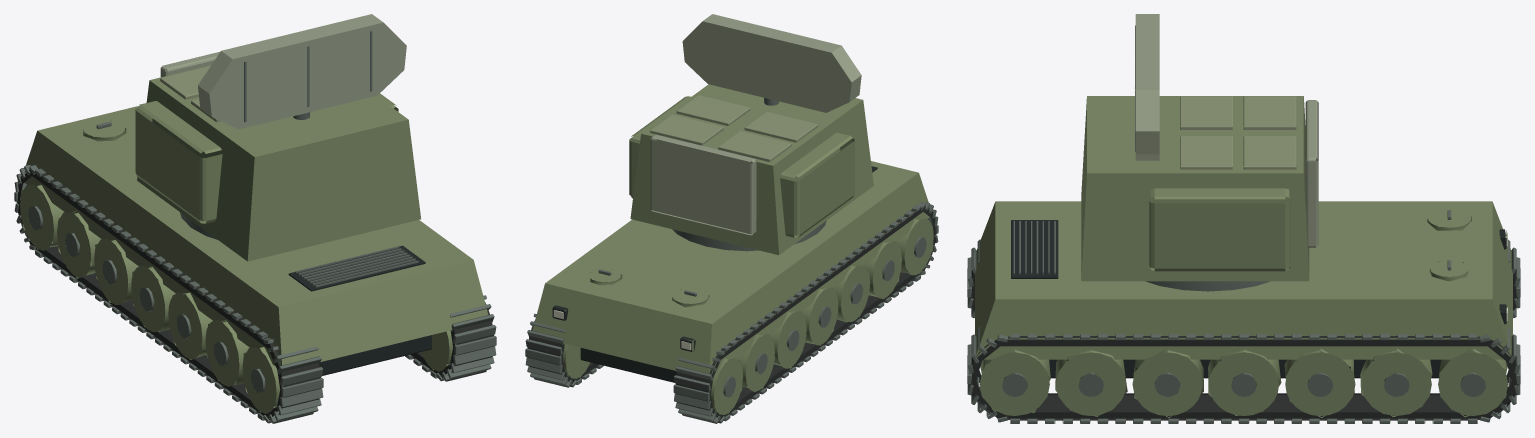
3 views of the same model, side by side, from view 1: azimuth 30°, elevation 25°; view 2: azimuth 150°, elevation 25°; view 3: azimuth 270°, elevation 25° (orthographic). The views are drawn at different scales.
Visible parts, largest first — view 1: static.olive painted metal, static.exterior radome, static.dark exterior metal, static.rubber and track pads, static.recess shadow, static.edge and panel paint; view 2: static.olive painted metal, static.exterior radome, static.dark exterior metal, static.edge and panel paint, static.rubber and track pads, static.recess shadow; view 3: static.olive painted metal, static.dark exterior metal, static.rubber and track pads, static.edge and panel paint, static.exterior radome, static.recess shadow.
Part boxes in pixels (box(x1,y1,x2,y2)): static.olive painted metal: box(20, 65, 488, 413); static.exterior radome: box(160, 14, 406, 129); static.dark exterior metal: box(14, 30, 496, 423); static.rubber and track pads: box(17, 169, 493, 419); static.recess shadow: box(288, 245, 431, 375); static.edge and panel paint: box(160, 65, 220, 122); static.olive painted metal: box(532, 84, 933, 414); static.exterior radome: box(650, 14, 861, 235); static.dark exterior metal: box(525, 98, 938, 423); static.edge and panel paint: box(650, 95, 818, 161); static.rubber and track pads: box(527, 206, 936, 420); static.recess shadow: box(552, 166, 877, 382); static.olive painted metal: box(975, 96, 1512, 417); static.dark exterior metal: box(967, 25, 1520, 423); static.rubber and track pads: box(969, 267, 1518, 420); static.edge and panel paint: box(1180, 96, 1296, 169); static.exterior radome: box(1135, 14, 1318, 247); static.recess shadow: box(1011, 220, 1506, 378).
Bounding box in the file's own units: 3.53 × 4.76 × 7.5.
